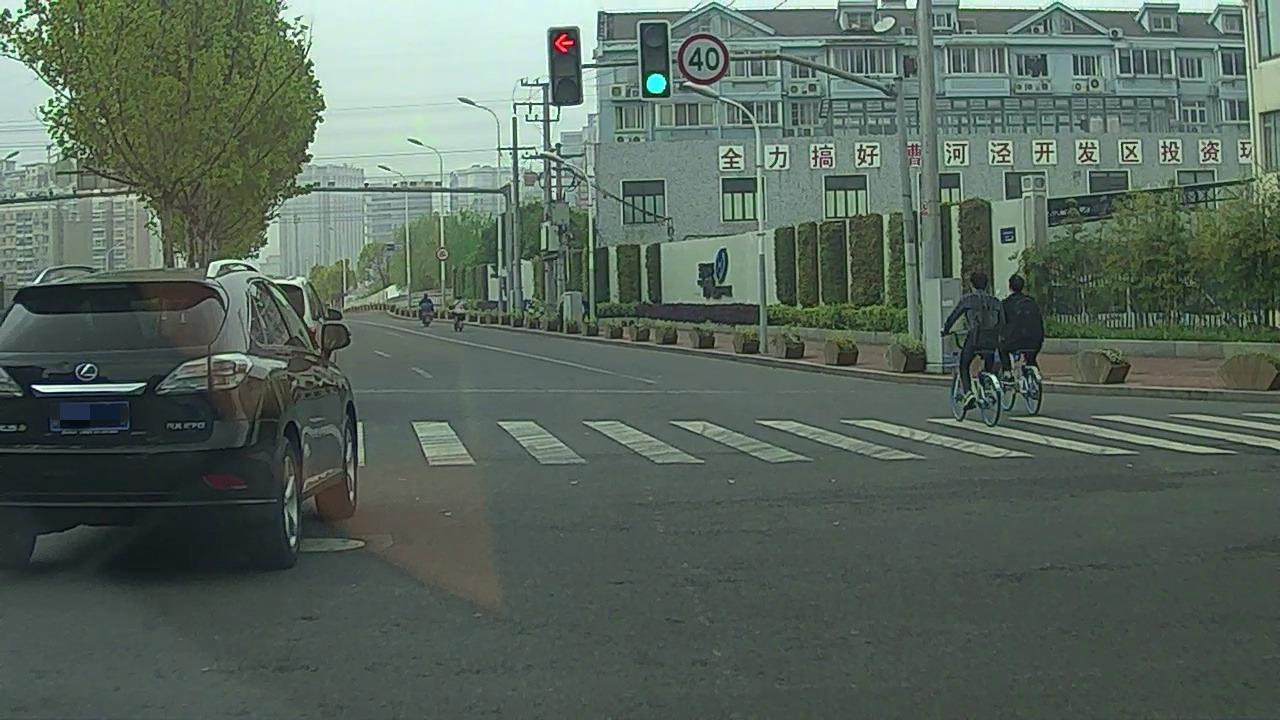traffic_light: (548, 27, 582, 104), (638, 22, 670, 99)
